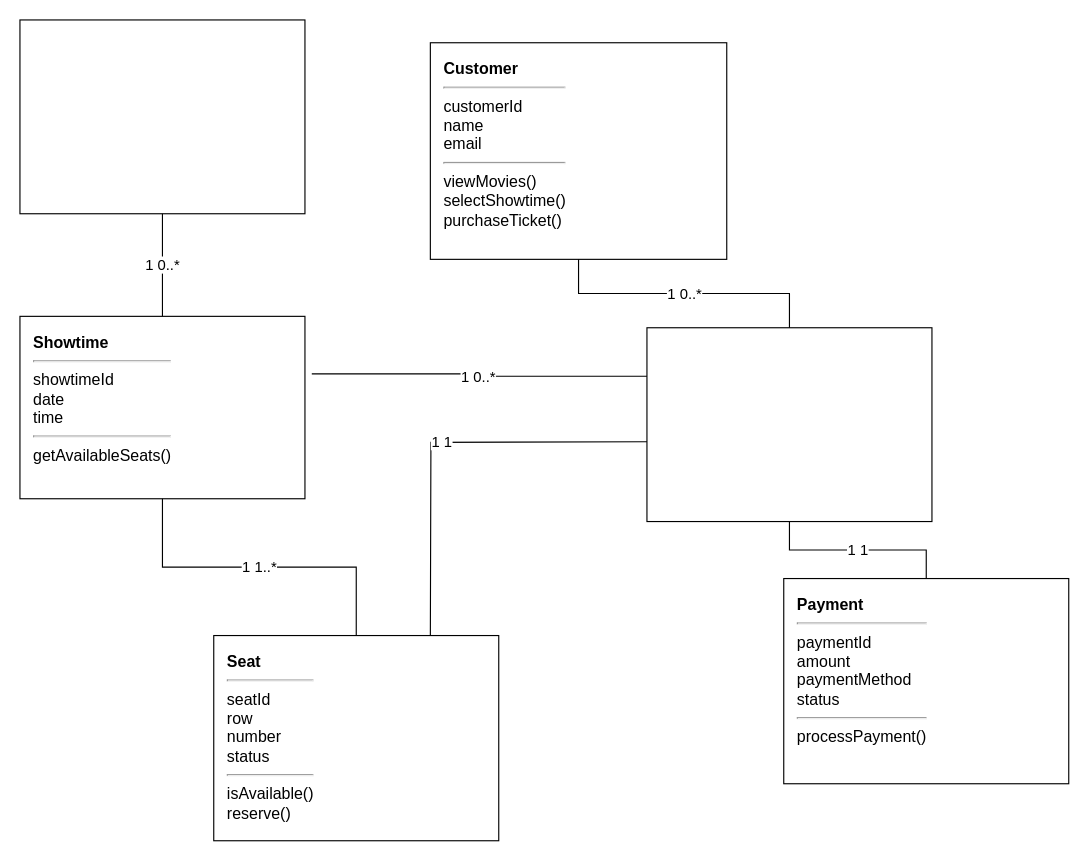
This 1089x861 diagram has some shape labels left out. Each missing label, with the box of its shape:
Movie movieId title duration rating getShowtimes(): (19, 19, 305, 214)
Ticket ticketId price status createTicket() confirmPurchase(): (646, 327, 932, 522)
